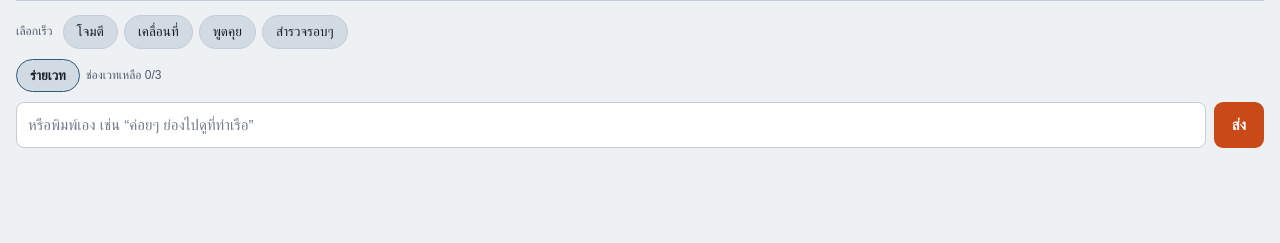
Test: ActionInput spell menu (K4) › disables slot spells when no slot is left, but cantrips stay castable
Click the button "ร่ายเวท". click: (48, 75)
box: [16,59,80,92]
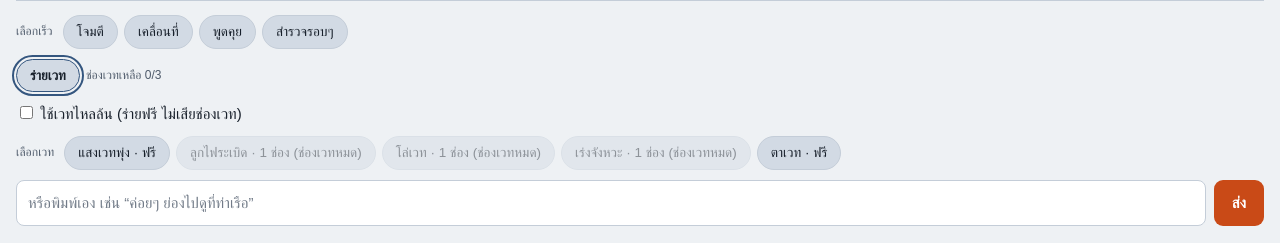
Now the button "ลูกไฟระเบิด · 1 ช่อง (ช่องเวทหมด)" is disabled, box [176,136,376,170]
Now the button "แสงเวทพุ่ง · ฟรี" is enabled, box [64,136,170,170]
